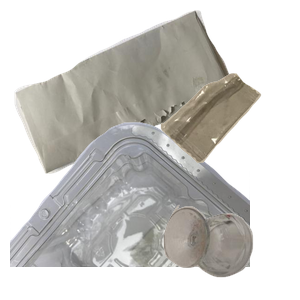glass: (161, 202, 300, 300)
paper: (12, 10, 240, 176)
plastic: (10, 120, 250, 300)
trash: (158, 71, 300, 227)
